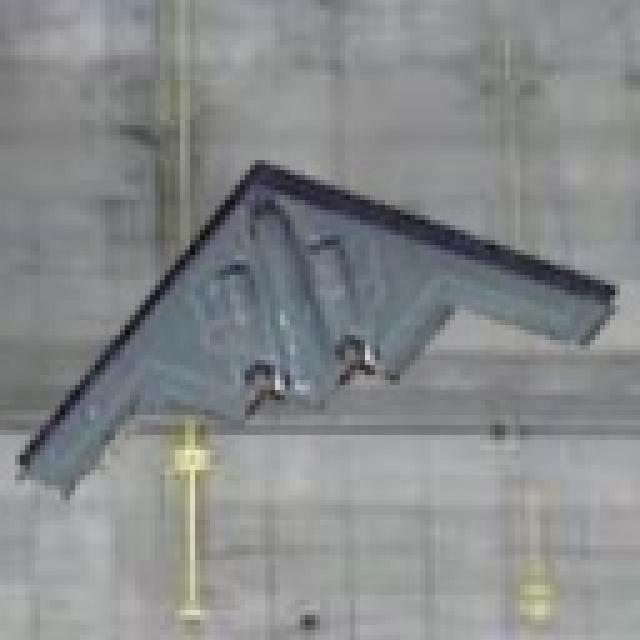B-2_TopDown: (10, 155, 620, 500)
